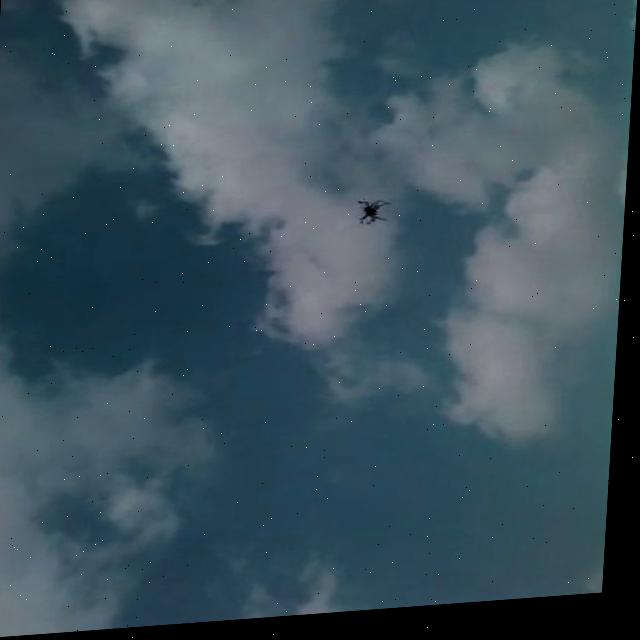drone: (349, 200, 397, 235)
